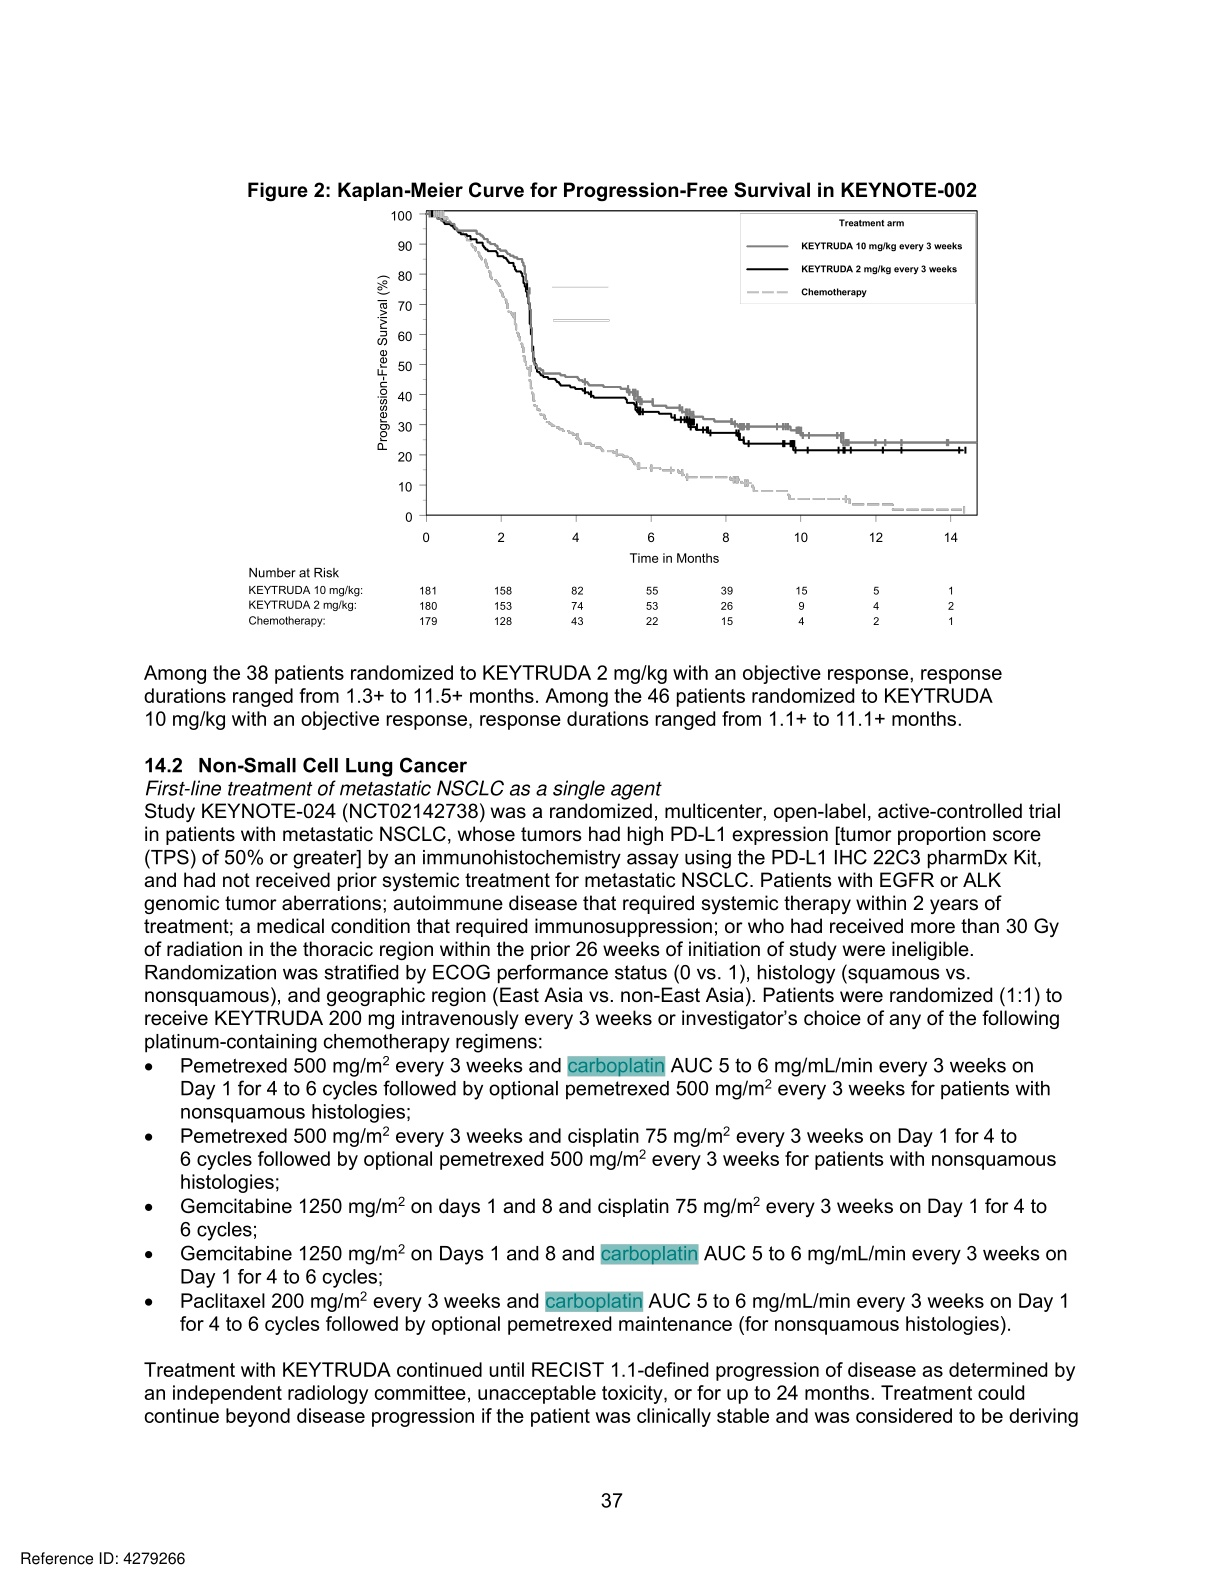nolines: (246, 566, 955, 629)
